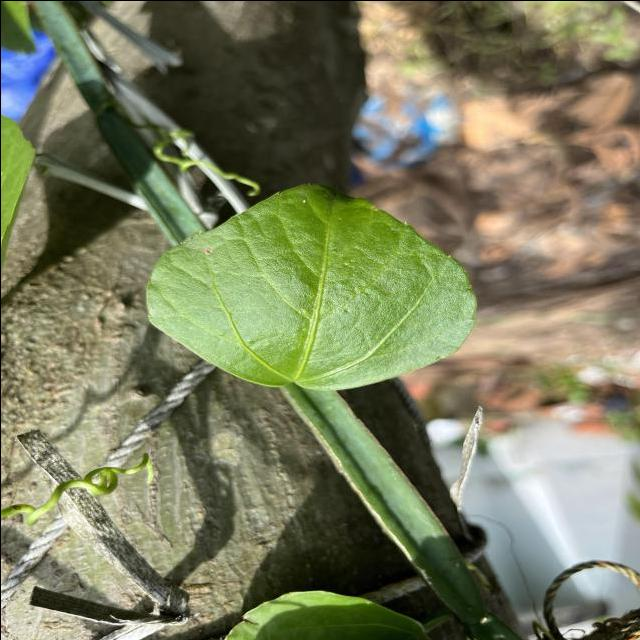Cissus quadrangularis: (140, 179, 482, 392)
